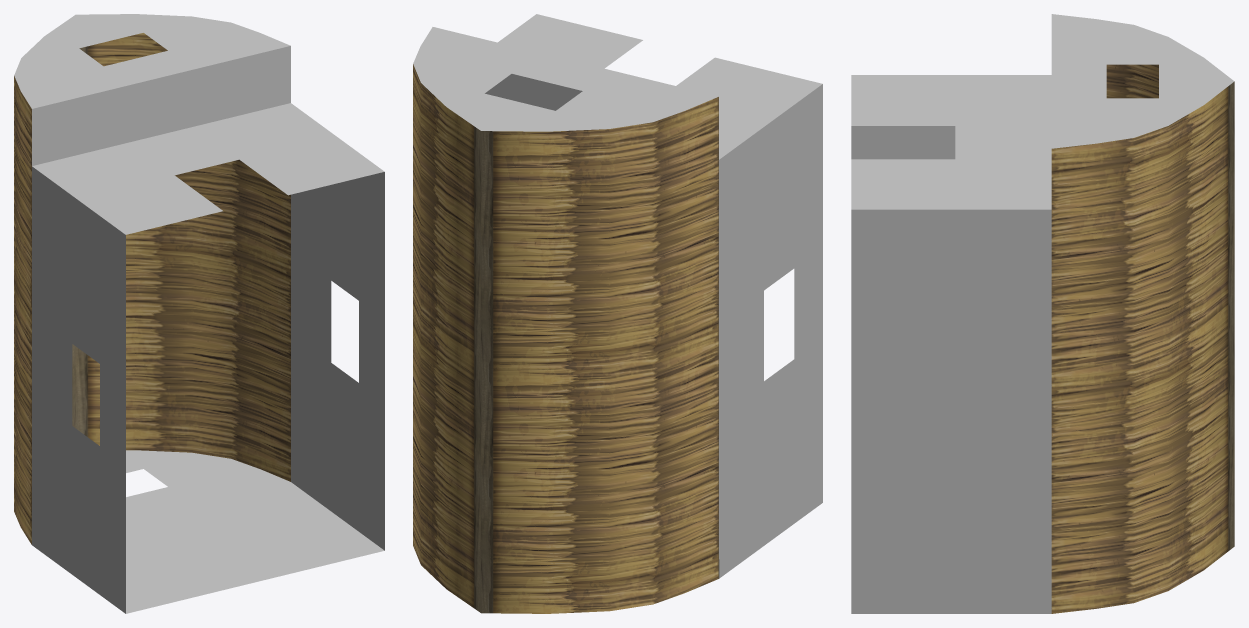
File: Pirate_House_Interior_Type01_B.fbx
3 renders of one model, left to right at view 1: azimuth 30°, elevation 25°; view 2: azimuth 150°, elevation 25°; view 3: azimuth 270°, elevation 25°, orthographic. The views are drawn at different scales.
Visible parts, largest first — view 1: Pirate_House_Interior_Type01_B; view 2: Pirate_House_Interior_Type01_B; view 3: Pirate_House_Interior_Type01_B.
Boxes of the visible parts, x1,y1,x2,y2 form: Pirate_House_Interior_Type01_B: (14,14,384,613); Pirate_House_Interior_Type01_B: (413,14,822,613); Pirate_House_Interior_Type01_B: (851,14,1234,613).
Size of the model in its own units: 6.43 by 10.34 by 7.72.
